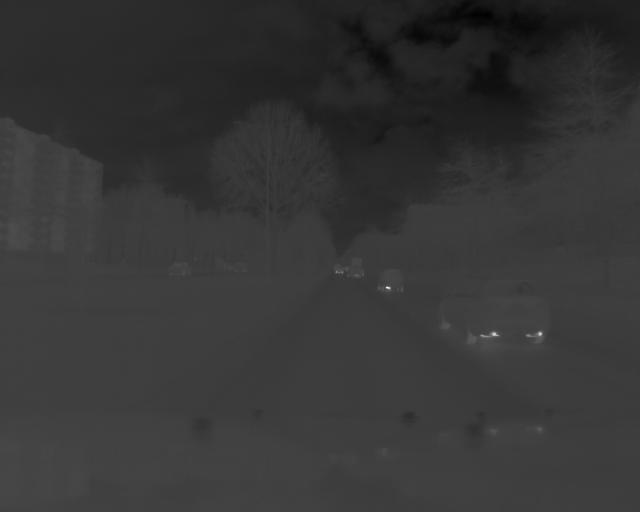car: (434, 278, 551, 350), (168, 261, 192, 279)
